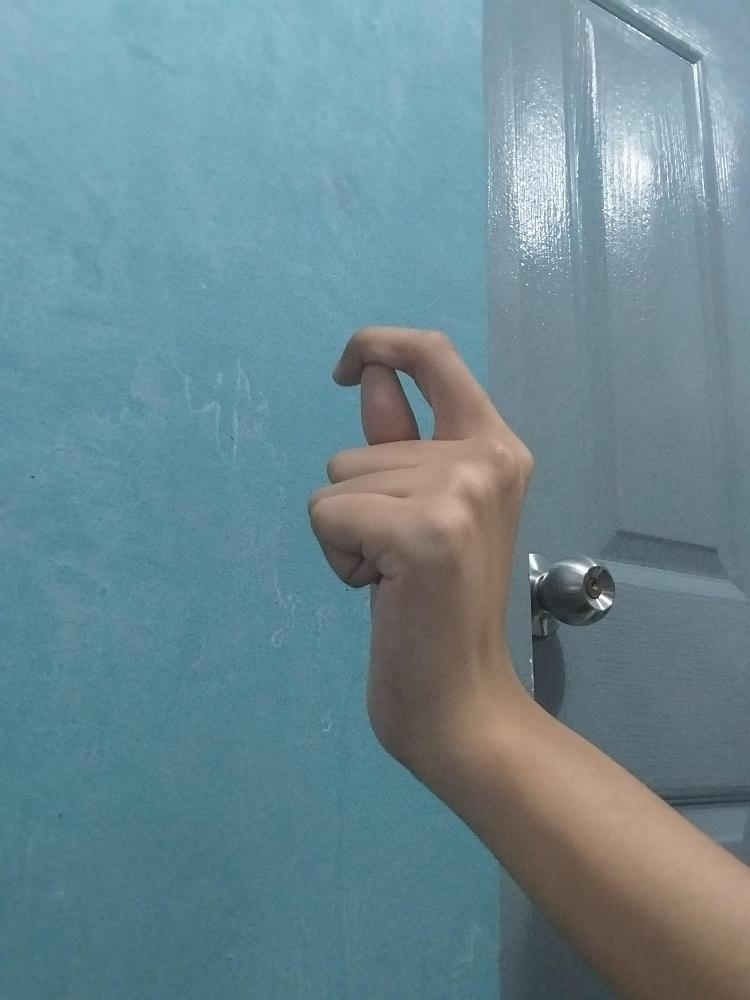t: (308, 317, 538, 764)
